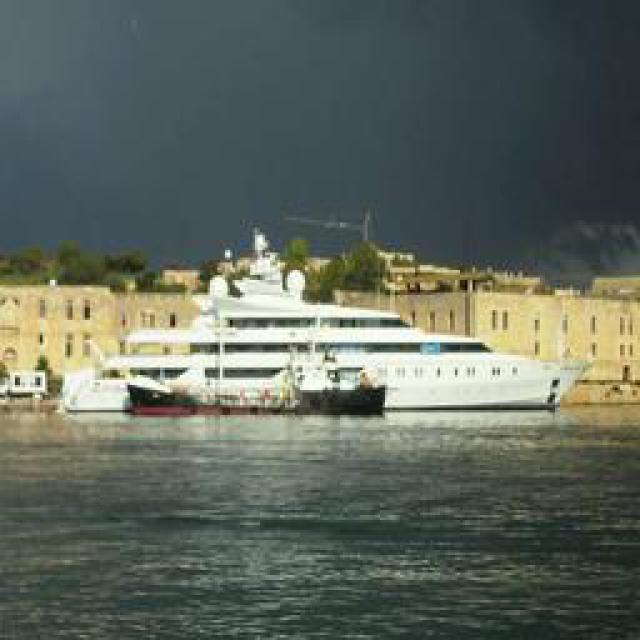Ship: (76, 290, 586, 423)
